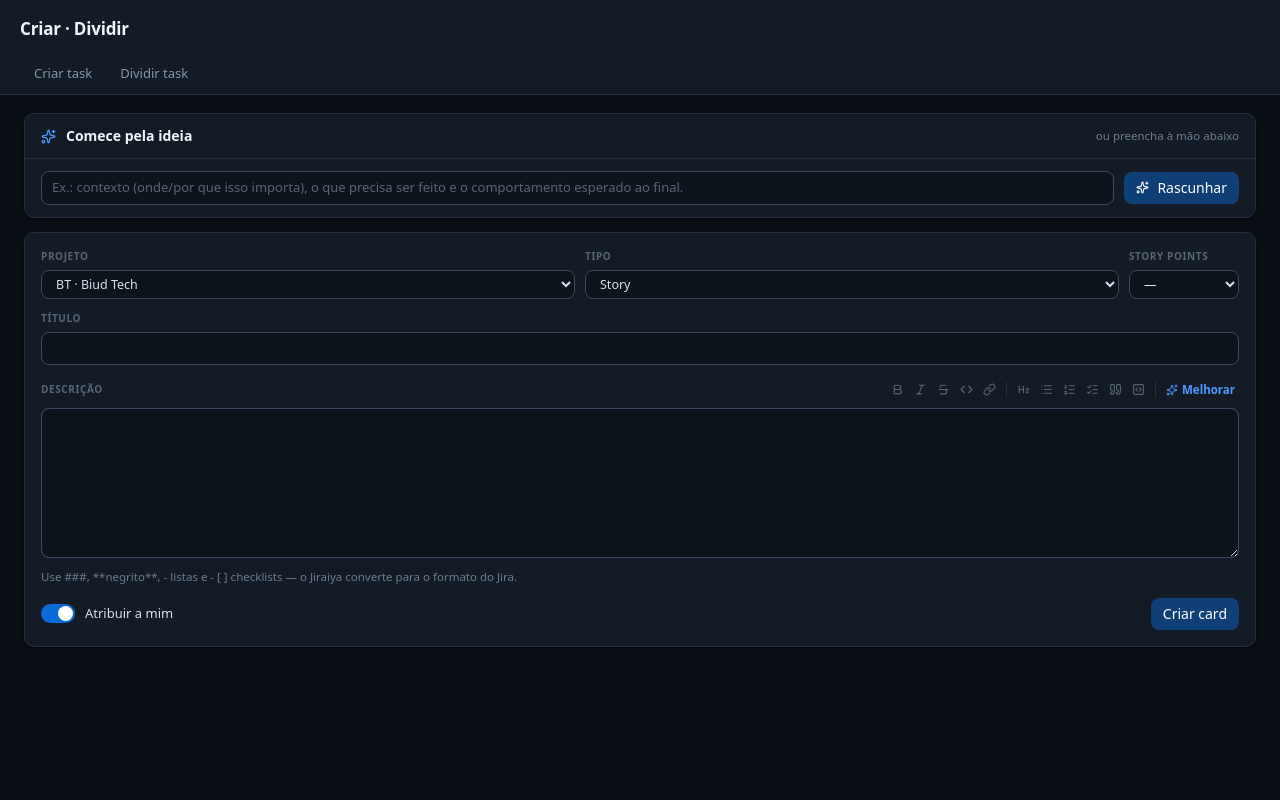
Test: Create › mostra erro quando gerar com IA falha
expect the text "Comece pela ideia" is shown: met, box [41,126,192,146]
Type "algo" into the field named "Descreva a ideia da task" at (578, 188), box [41,171,1114,204]
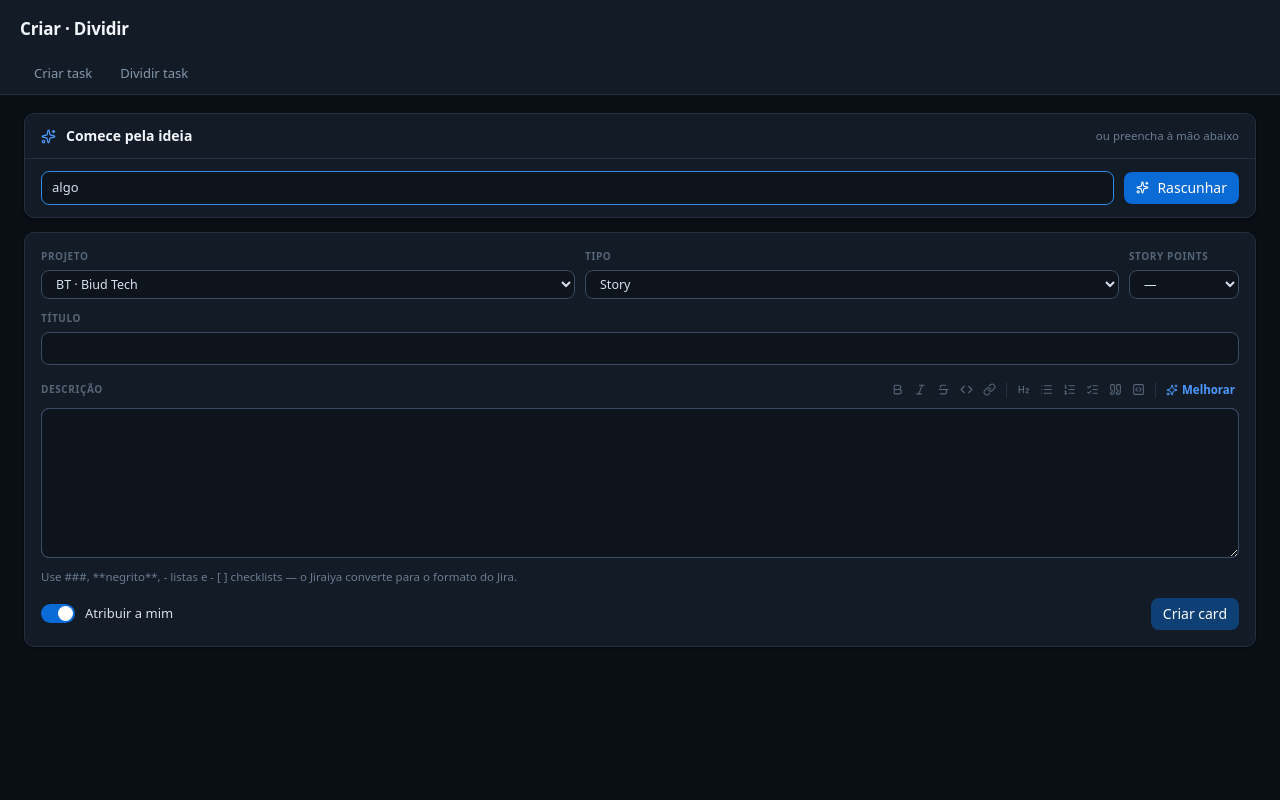
Click the button "Rascunhar" at (1182, 188), box [1124,172,1239,204]
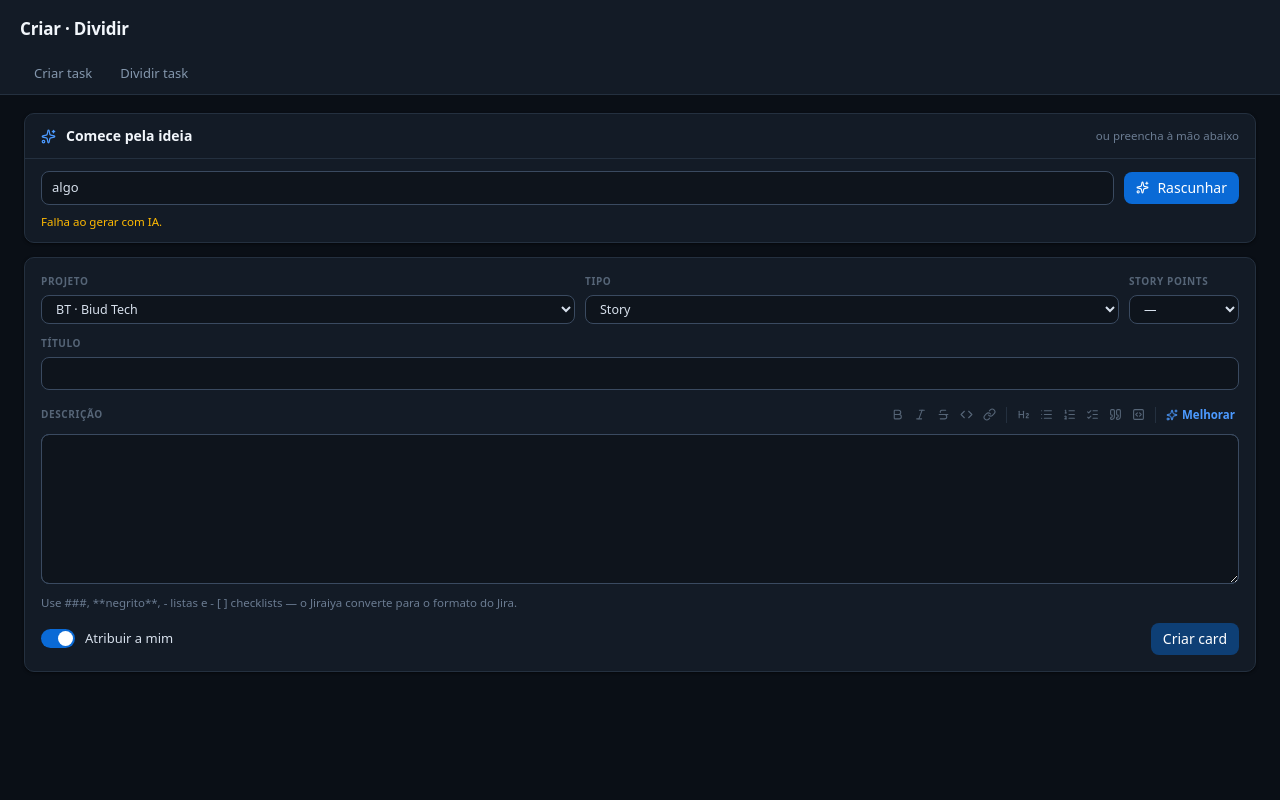
expect the text "Falha ao gerar com IA." is shown: met, box [41,214,162,228]
